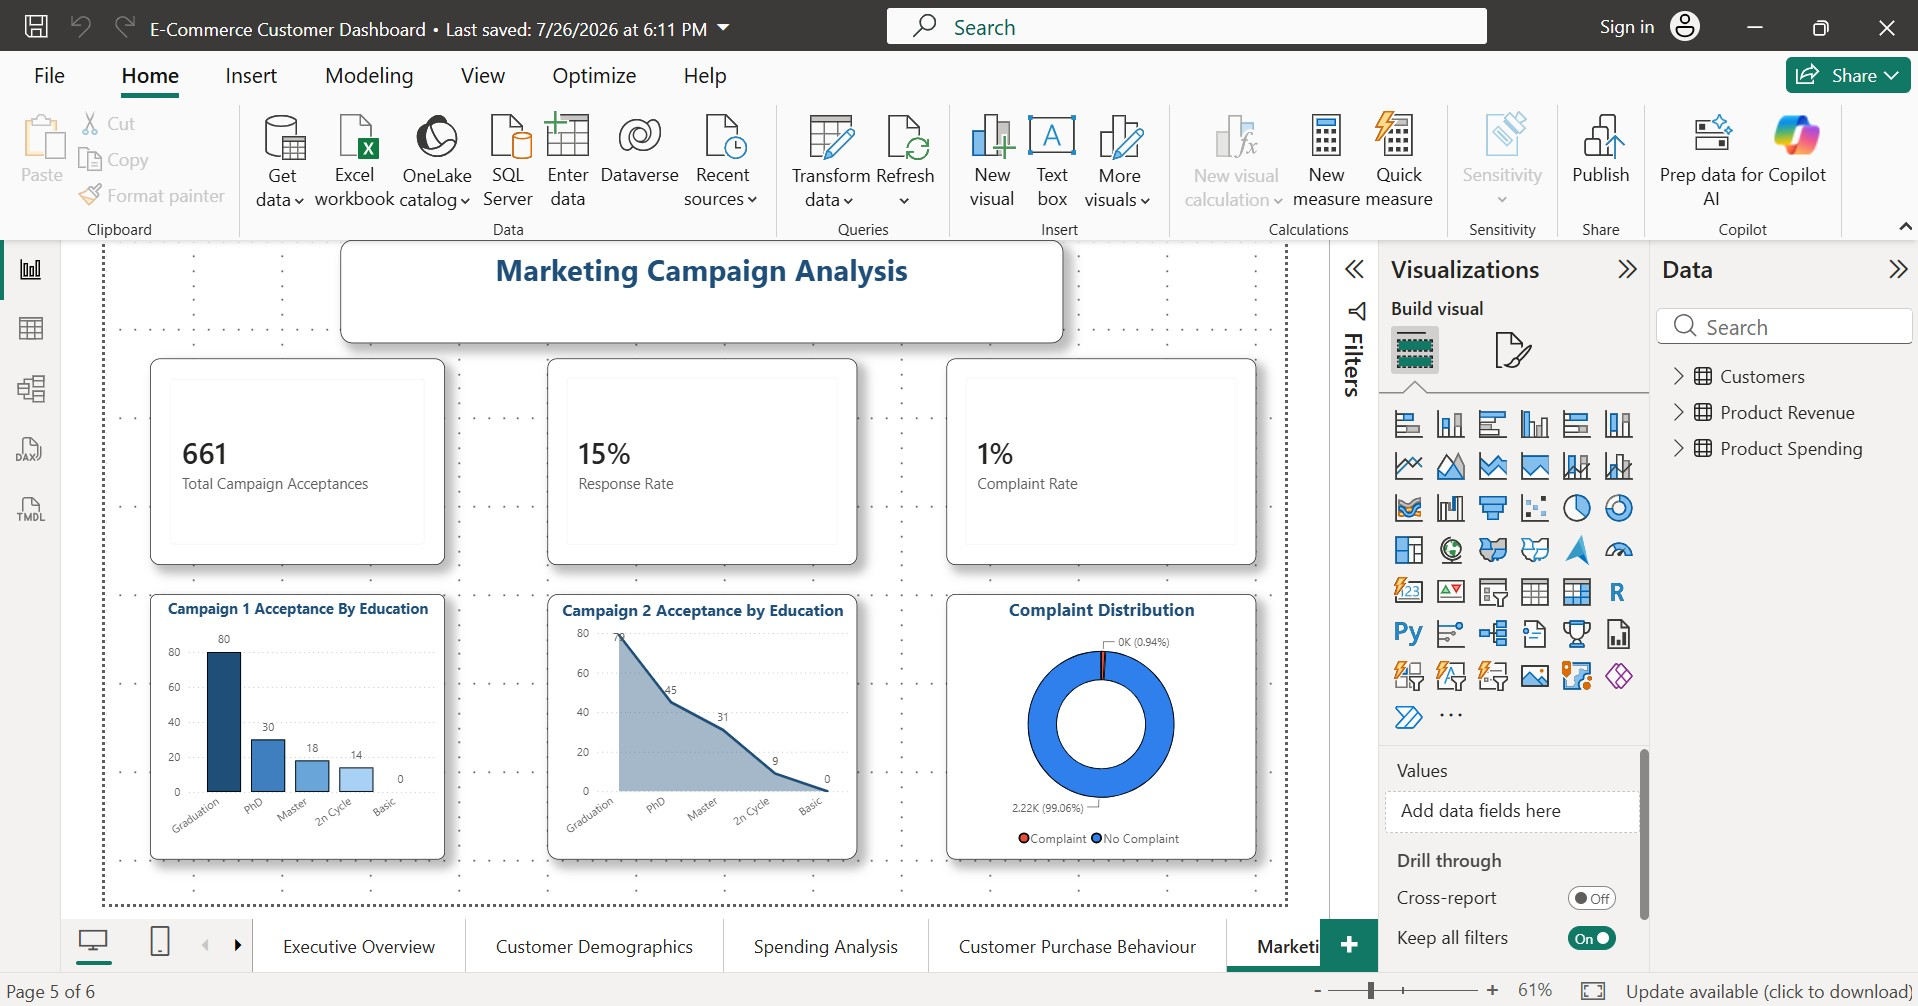

The page's visual inventory and layout, read from the dashboard file:
{"tool":"powerbi","page":{"name":"Marketing Campaign Analysis","canvas":[1280,720],"ordinal":4},"visuals":[{"type":"textbox","box":[256,0,784,112],"z":0},{"type":"cardVisual","fields":{"Data":["Customers.Total Campaign Acceptances"]},"box":[48,128,320,224],"z":1000},{"type":"cardVisual","fields":{"Data":["Customers.Response Rate"]},"box":[480,128,336,224],"z":2000},{"type":"cardVisual","fields":{"Data":["Customers.Complaint Rate"]},"box":[912,128,336,224],"z":3000},{"type":"clusteredColumnChart","title":"Campaign 1 Acceptance By Education","fields":{"Category":["Customers.Education"],"Y":["Sum(Customers.AcceptedCmp1)"]},"box":[48,384,320,288],"z":4000},{"type":"areaChart","title":"Campaign 2 Acceptance by Education","fields":{"Category":["Customers.Education"],"Y":["Sum(Customers.AcceptedCmp4)"]},"box":[480,384,336,288],"z":5000},{"type":"donutChart","title":"Complaint Distribution","fields":{"Y":["Sum(Customers.Complain)","CountNonNull(Customers.ID)"]},"box":[912,384,336,288],"z":6000}]}

Visuals, with their boxes on the page's 1280x720 design canvas (x1, y1, x2, y2). These are canvas units, not pixel positions in the 1918x1006 screenshot, which may show the page scaled, cropped or inside an application window:
textbox: x1=256 y1=0 x2=1040 y2=112
cardVisual - Customers.Total Campaign Acceptances: x1=48 y1=128 x2=368 y2=352
cardVisual - Customers.Response Rate: x1=480 y1=128 x2=816 y2=352
cardVisual - Customers.Complaint Rate: x1=912 y1=128 x2=1248 y2=352
"Campaign 1 Acceptance By Education" clusteredColumnChart: x1=48 y1=384 x2=368 y2=672
"Campaign 2 Acceptance by Education" areaChart: x1=480 y1=384 x2=816 y2=672
"Complaint Distribution" donutChart: x1=912 y1=384 x2=1248 y2=672
